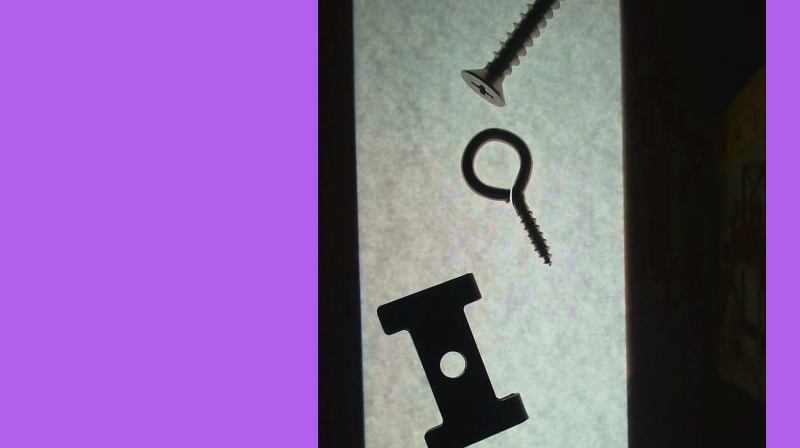O001: (457, 122, 555, 269)
O002: (373, 267, 529, 447)
S001: (455, 0, 581, 110)
